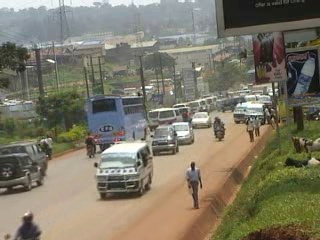Car: (0, 152, 47, 192), (149, 121, 180, 154), (169, 121, 195, 145), (217, 95, 245, 112), (187, 111, 212, 127), (176, 106, 194, 121)
Motorcycle: (1, 209, 45, 239), (82, 128, 98, 159), (210, 116, 225, 136), (214, 118, 226, 142)
